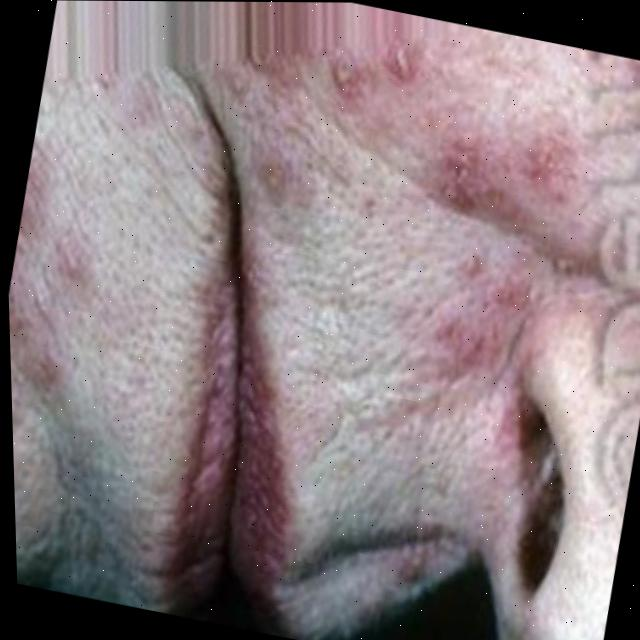Rosacea: (287, 34, 588, 230), (6, 192, 123, 423), (423, 256, 525, 380), (387, 559, 437, 602)
